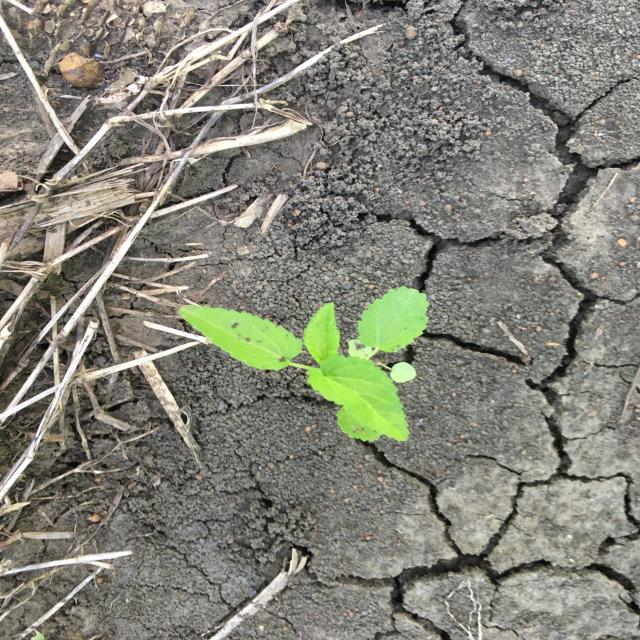PricklySida: (177, 286, 431, 444)
